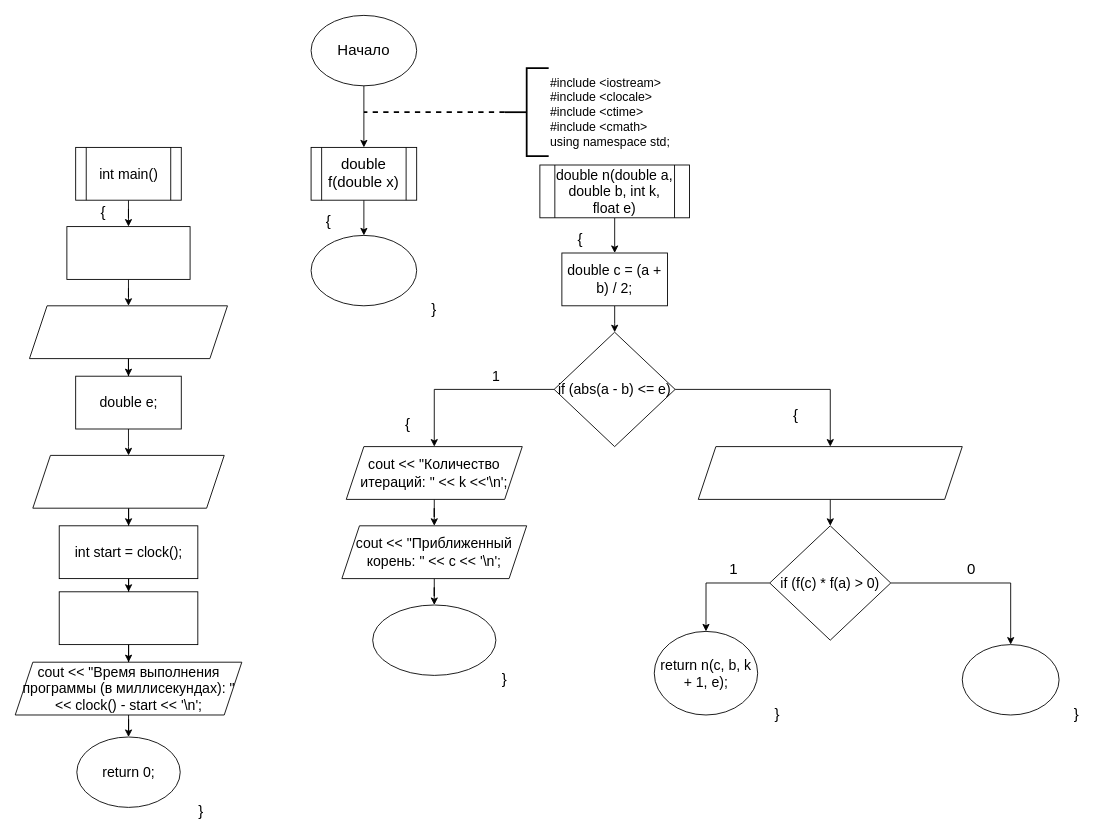
The diagram is 1118 pixels wide and 840 high, and some of its shapes have lost their labels. The centre of each missing label's shape, as x and y in pixels:
cin >> e;: pixel 128 481
cout << "Введите точность: ";: pixel 128 332
cout << "Корень при " << k + 1 << " итерации x0 = " << c << '\n';: pixel 829 472
n(1, 2, 0, e);: pixel 128 618
return (a + b) / 2;: pixel 434 639
return n(a, c, k + 1, e);: pixel 1010 679
return x - 2 + sin(1 / x);: pixel 363 270
setlocale(LC_ALL, "Russian");: pixel 128 252
